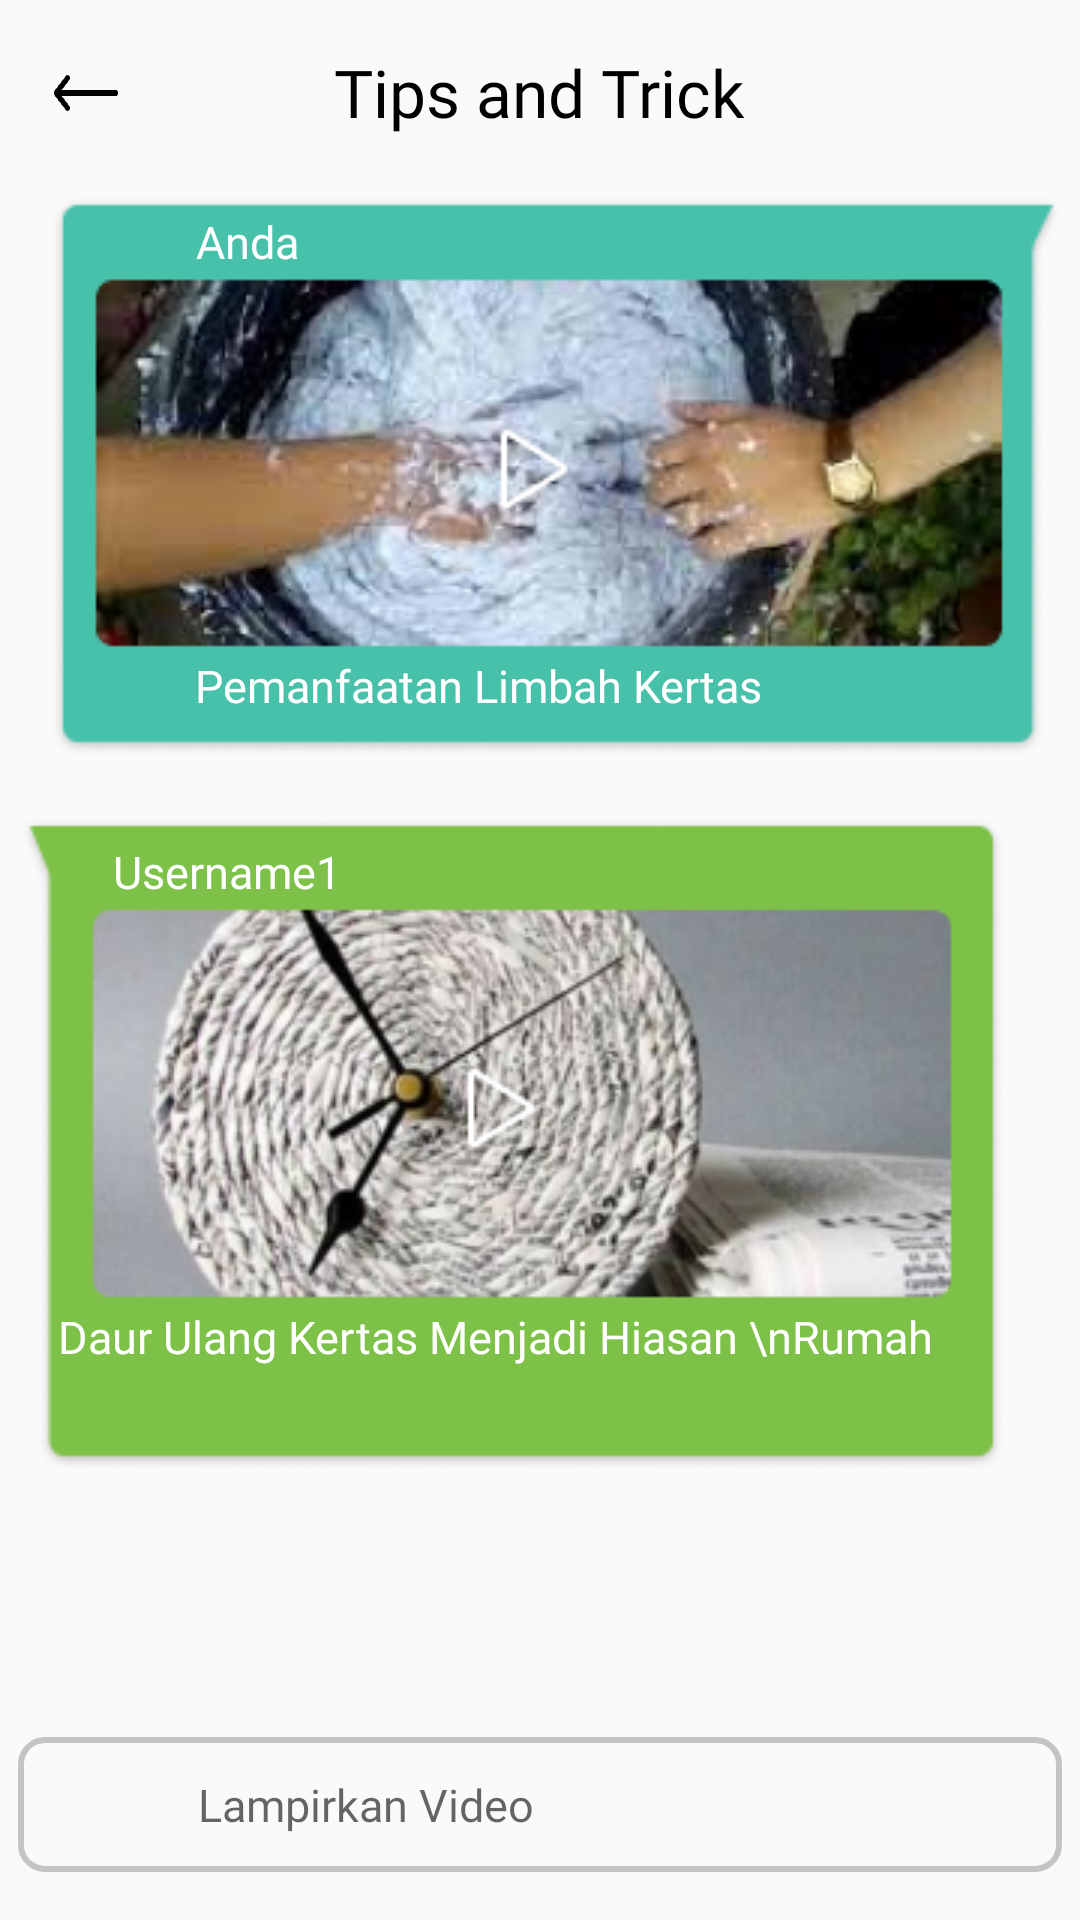

Screen size 1080w x 1920h. Icon name, then its center in pixels as (x,y):
leftarrow: (86,93)
